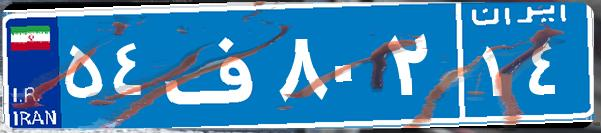0: (330, 28, 385, 110)
1: (475, 38, 525, 113)
2: (385, 28, 445, 110)
4: (110, 28, 158, 105), (525, 38, 570, 115)
5: (57, 26, 110, 107)
8: (273, 28, 330, 110)
ف: (158, 15, 273, 115)
